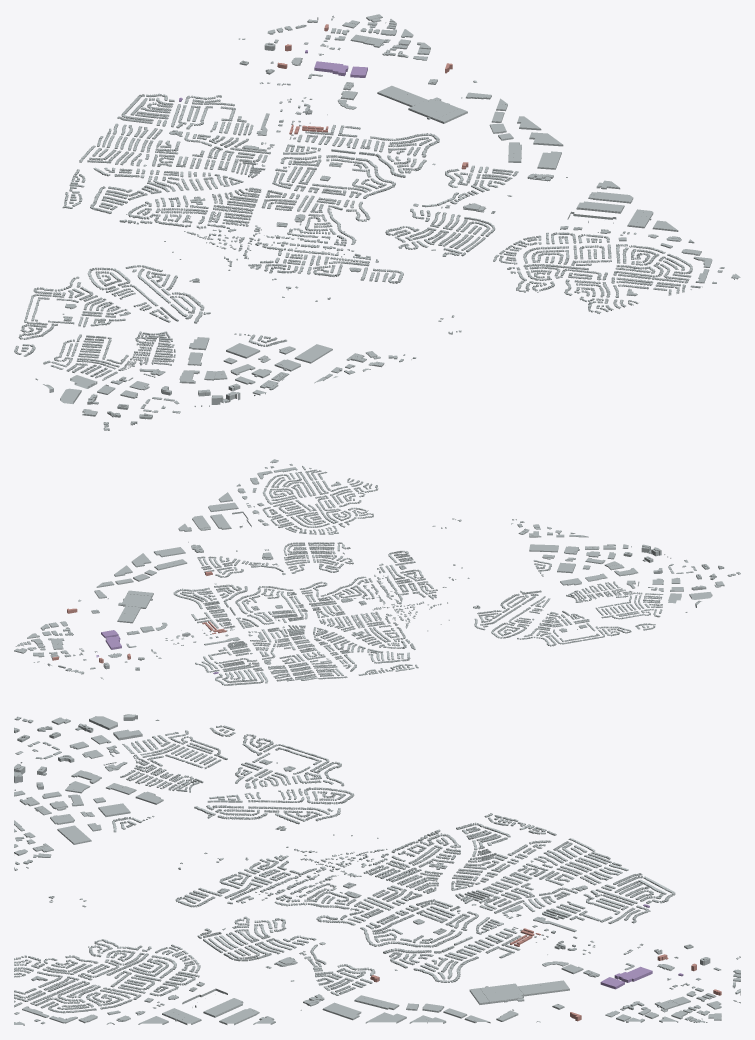
Rendered from meadowvale-village.glb.
The picture shows the model from 3 angles, top to bottom: view 1: azimuth 30°, elevation 25°; view 2: azimuth 150°, elevation 25°; view 3: azimuth 270°, elevation 25°; orthographic projection. The views are drawn at different scales.
Parts seen in each view (by area): view 1: existing-23, existing-21, existing-32; view 2: existing-23, existing-21, existing-32; view 3: existing-23, existing-21, existing-32.
Boxes of the visible parts, x1,y1,x2,y2 form: existing-23: (140, 53, 724, 413); existing-21: (14, 42, 302, 409); existing-32: (320, 14, 430, 60); existing-23: (78, 463, 696, 652); existing-21: (103, 573, 712, 685); existing-32: (14, 621, 84, 662); existing-23: (14, 741, 671, 1025); existing-21: (49, 714, 710, 970); existing-32: (605, 982, 740, 1022).
Bounding box in the file's own units: 4600 × 81.11 × 4600.
